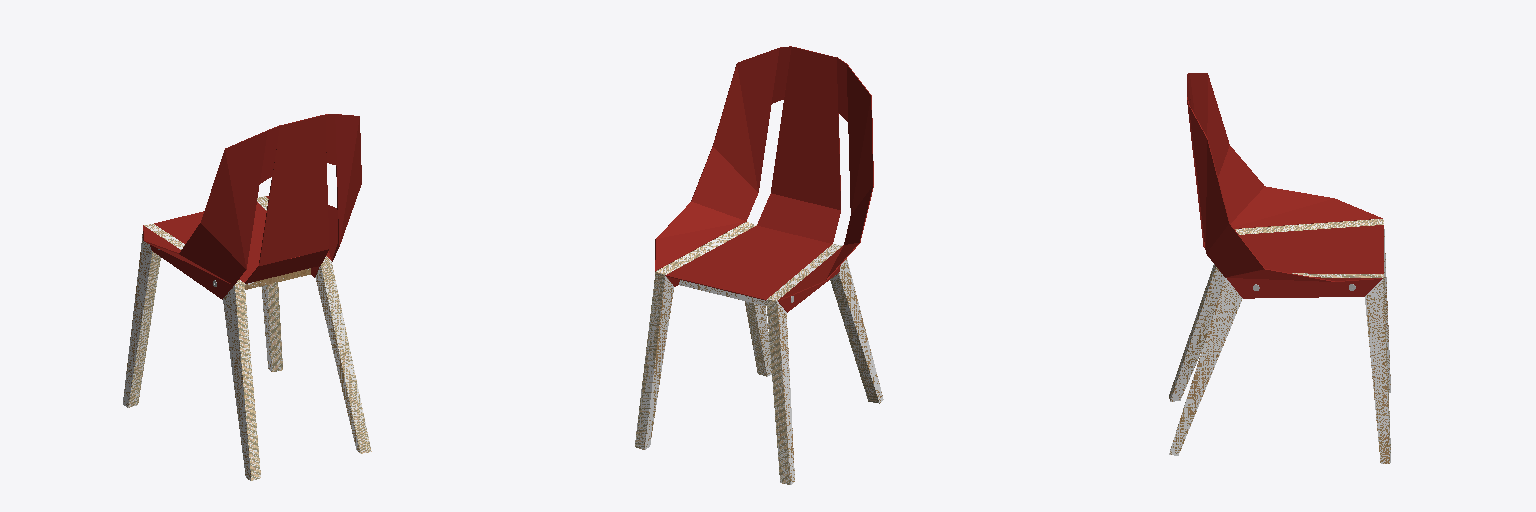
3 renders of one model, left to right at view 1: azimuth 30°, elevation 25°; view 2: azimuth 150°, elevation 25°; view 3: azimuth 270°, elevation 25°, orthographic.
Parts seen in each view (by area): view 1: mesh14_mesh14-geometry, mesh3_mesh3-geometry, mesh4_mesh4-geometry; view 2: mesh14_mesh14-geometry, mesh3_mesh3-geometry, mesh4_mesh4-geometry; view 3: mesh14_mesh14-geometry, mesh4_mesh4-geometry, mesh3_mesh3-geometry.
Part boxes in pixels (x1,y1,x2,y2): mesh14_mesh14-geometry: (143,114,361,299); mesh3_mesh3-geometry: (123,224,260,480); mesh4_mesh4-geometry: (257,196,371,453); mesh14_mesh14-geometry: (655,46,873,312); mesh3_mesh3-geometry: (766,244,883,484); mesh4_mesh4-geometry: (635,222,771,449); mesh14_mesh14-geometry: (1187,73,1383,298); mesh4_mesh4-geometry: (1169,273,1390,463); mesh3_mesh3-geometry: (1169,219,1390,401).
Size of the model in its own units: 0.4125 by 0.7833 by 0.465.
Materials: 6 (2 with a texture image).